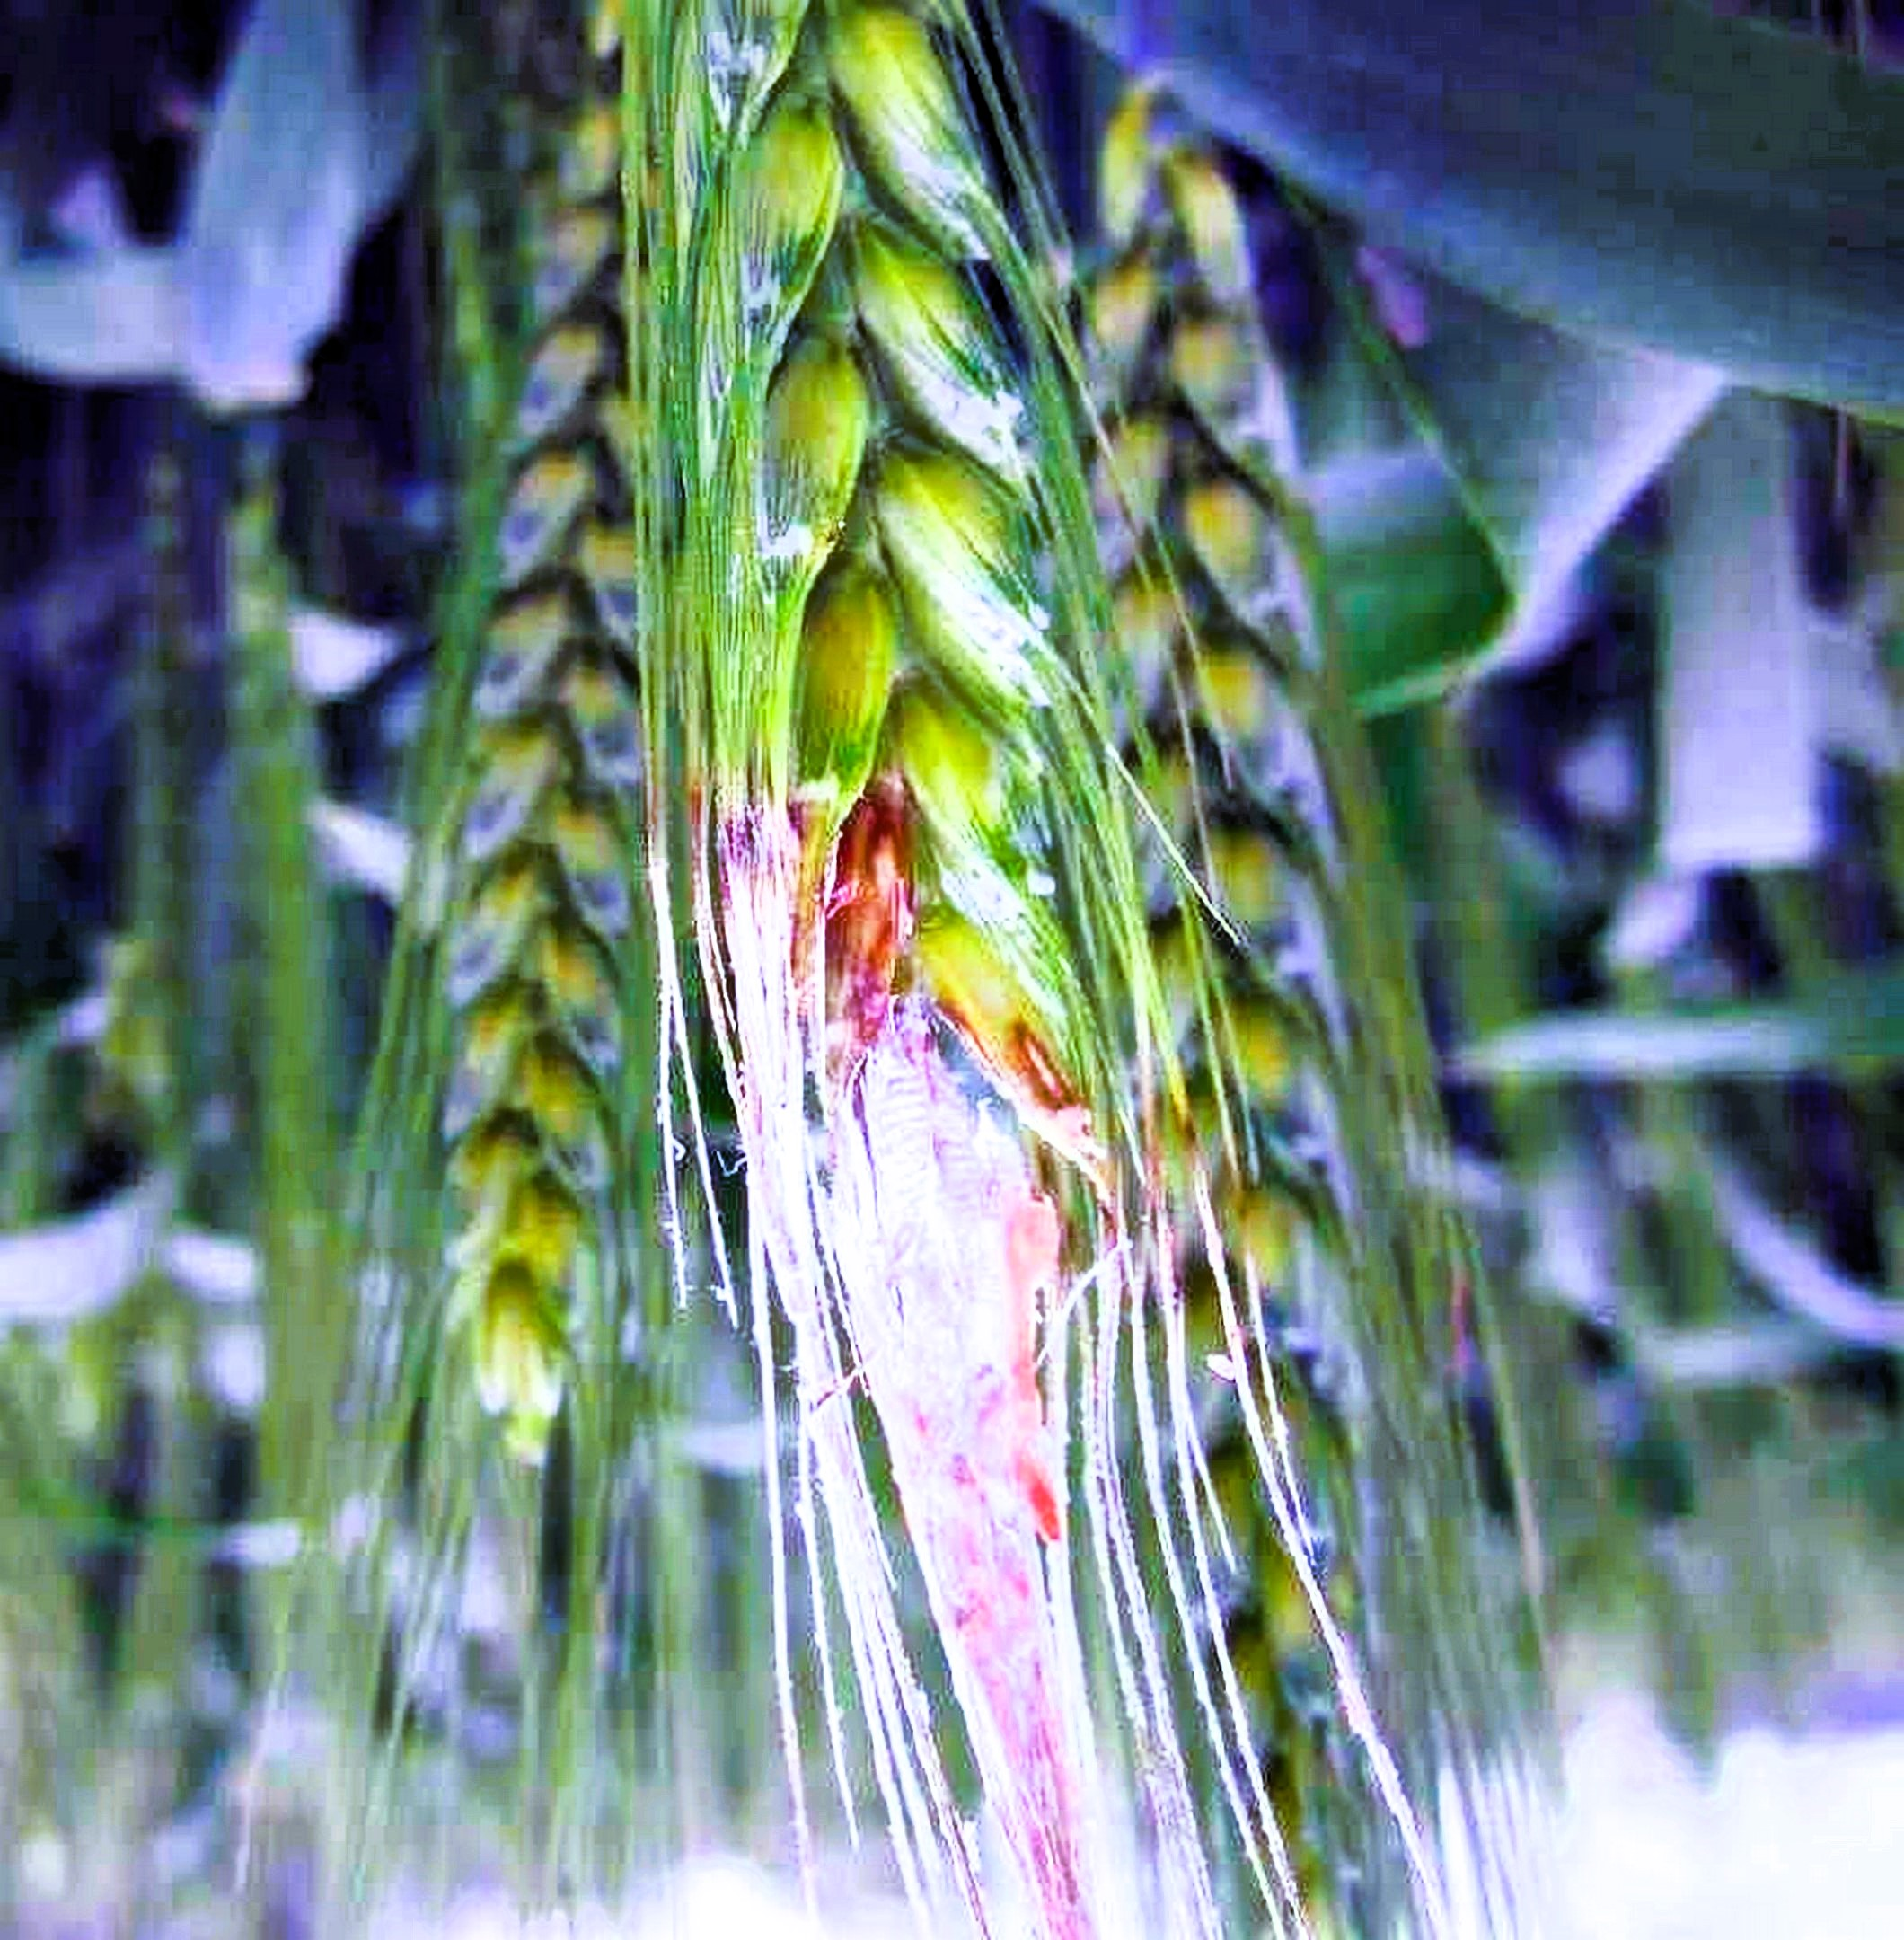Wheat scab: (640, 21, 1287, 1905)
